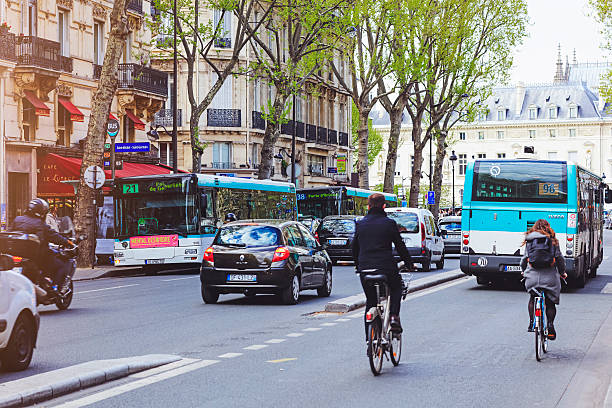bus: (462, 158, 604, 293), (116, 183, 221, 268), (299, 190, 360, 244)
car: (202, 220, 333, 306), (384, 208, 444, 268), (319, 217, 356, 264), (436, 216, 464, 255)
